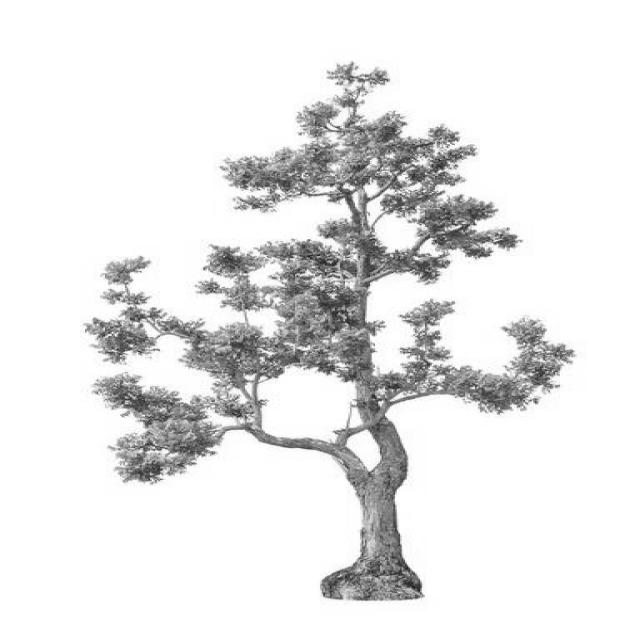Tree: (87, 64, 573, 601)
